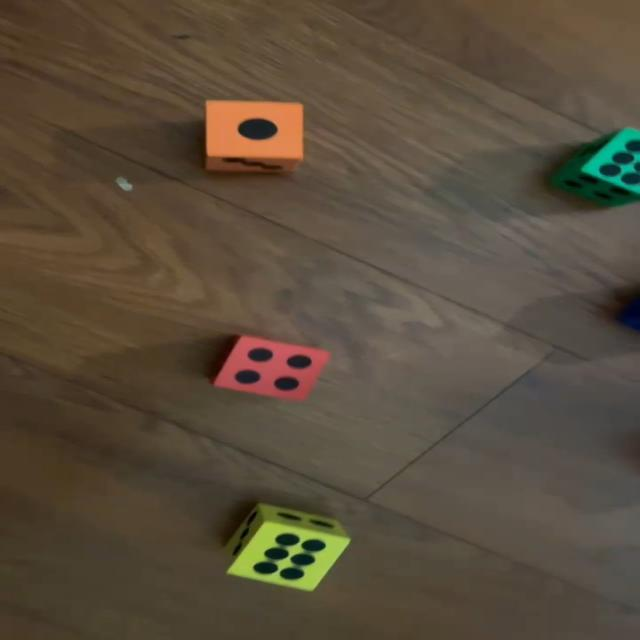red_block: (211, 333, 329, 401)
